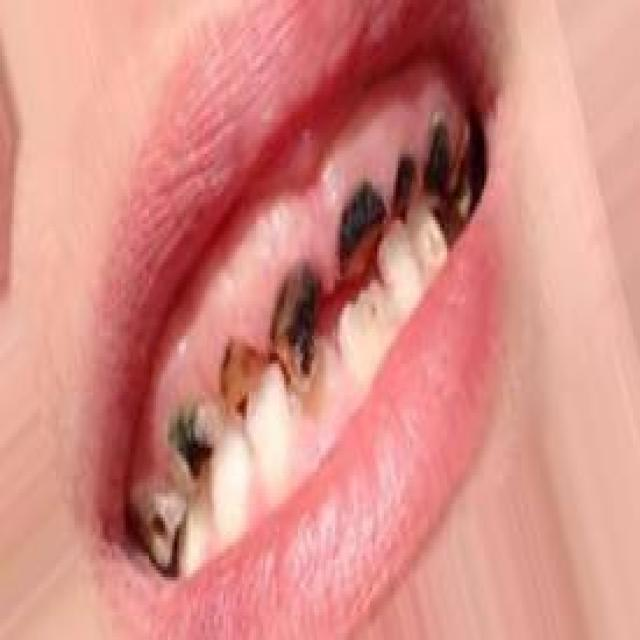caries: (268, 255, 326, 396), (131, 484, 200, 590), (332, 170, 388, 290), (156, 392, 220, 496), (211, 336, 281, 428), (419, 99, 456, 205), (389, 144, 422, 243)
